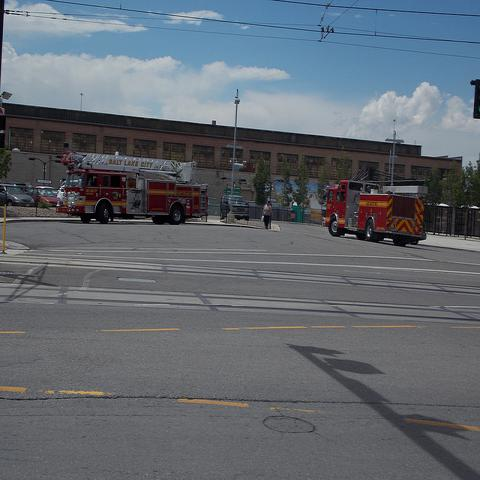car: (220, 194, 250, 221), (1, 184, 34, 208), (28, 187, 63, 208)
truck: (58, 153, 208, 226), (323, 179, 428, 246), (56, 180, 78, 213)
